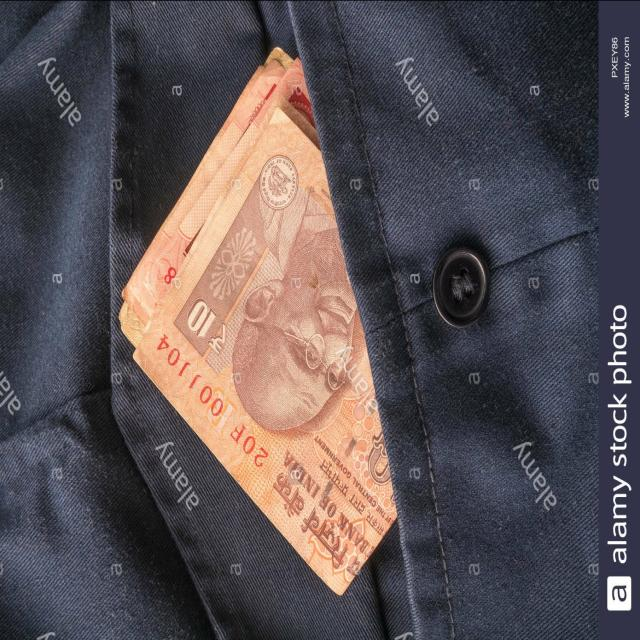10IndianRupees: (129, 103, 404, 596)
